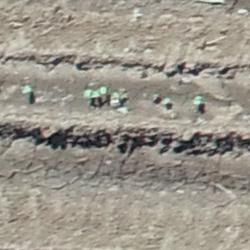cotton: (195, 95, 203, 104), (87, 90, 97, 97), (24, 85, 32, 93), (164, 98, 171, 106), (112, 93, 119, 99), (100, 86, 106, 92)
